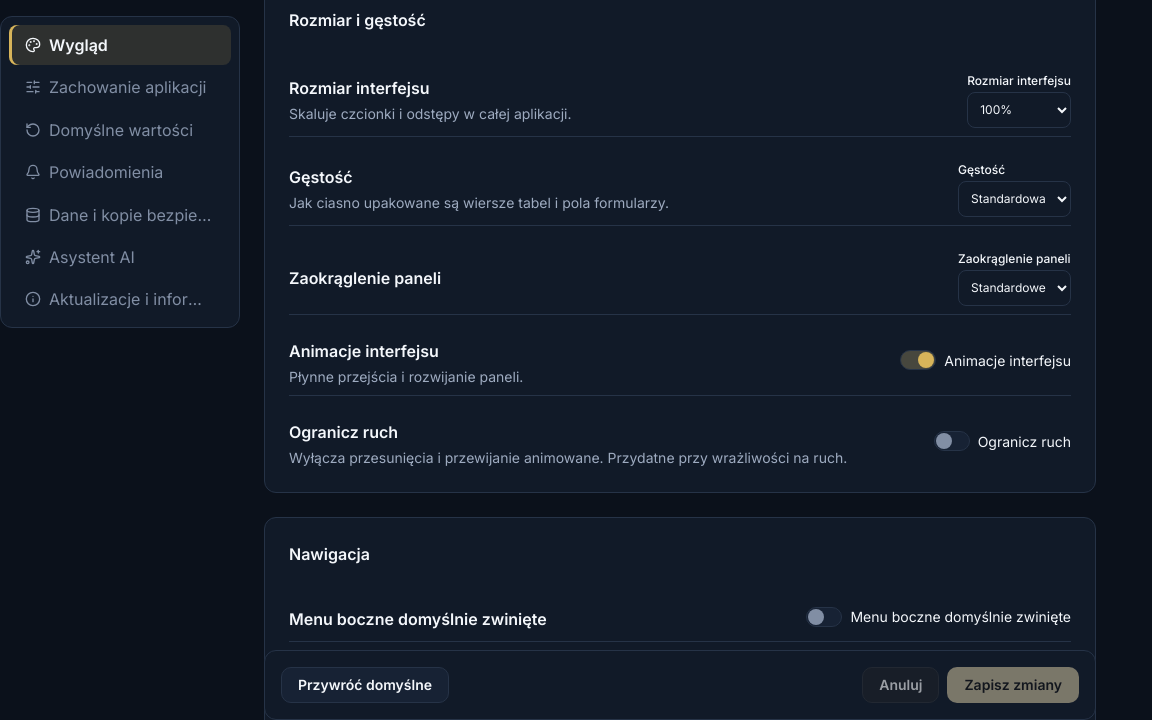
it: SettingsPage › „Zapisz zmiany” jest nieaktywne, dopóki nic nie zmieniono
(page scrolled)
Expected: the button "Zapisz zmiany" is disabled, [948,667,1079,703]
Expected: the button "Anuluj" is disabled, [862,667,940,703]
Click the switch labelled "Animacje interfejsu" at (986, 360), box [900,350,1071,371]
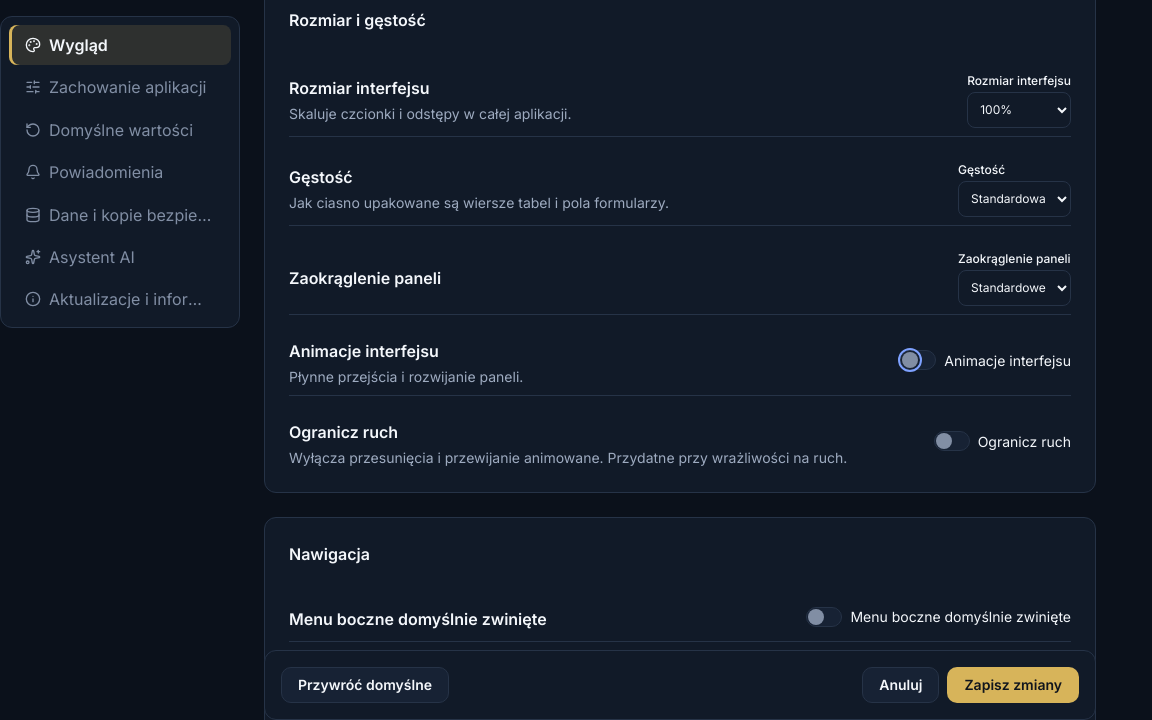
Now the button "Zapisz zmiany" is enabled, box [948,667,1079,703]
Now the button "Anuluj" is enabled, box [862,667,940,703]
